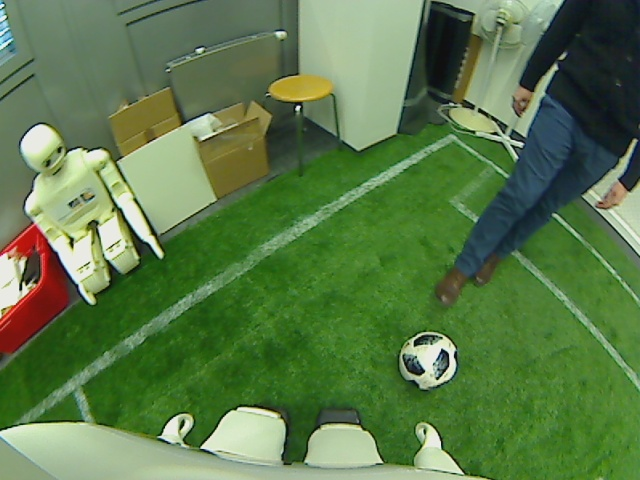ball: (398, 327, 458, 392)
